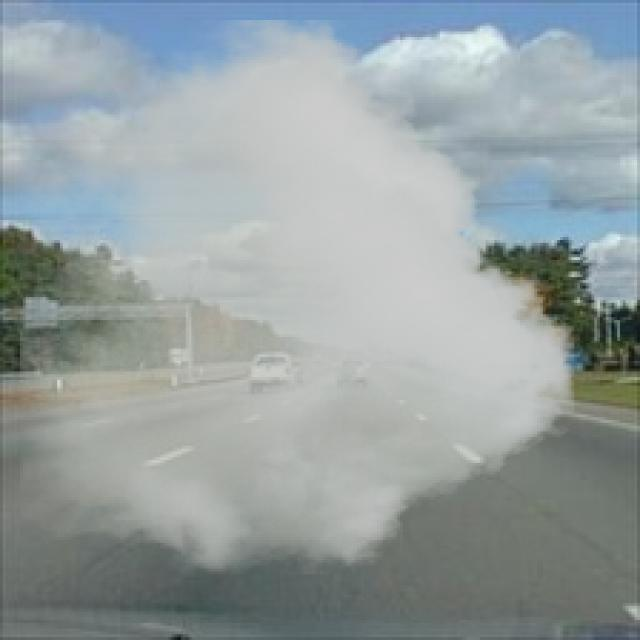Smoke: (19, 19, 574, 574)
